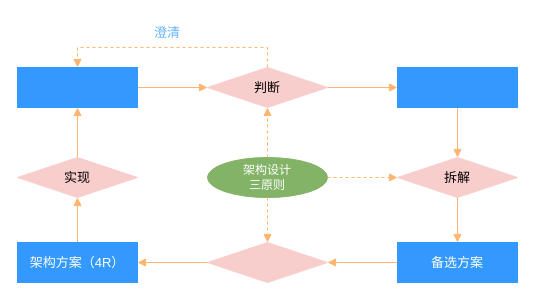
This 535x300 diagram has some shape labels left out. The shapes that lost their labels are listed below. From the top down, each one's box as (x1, y1, x2, y2) in pixels, then its label:
(16, 66, 138, 108): 需求
(396, 66, 518, 108): 复杂度
(206, 242, 328, 282): 取舍
